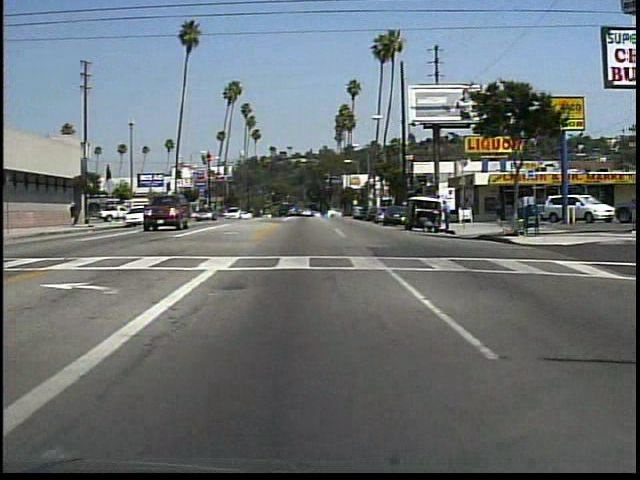person: (439, 197, 456, 234), (489, 192, 505, 223), (416, 215, 434, 233), (71, 200, 79, 227)
